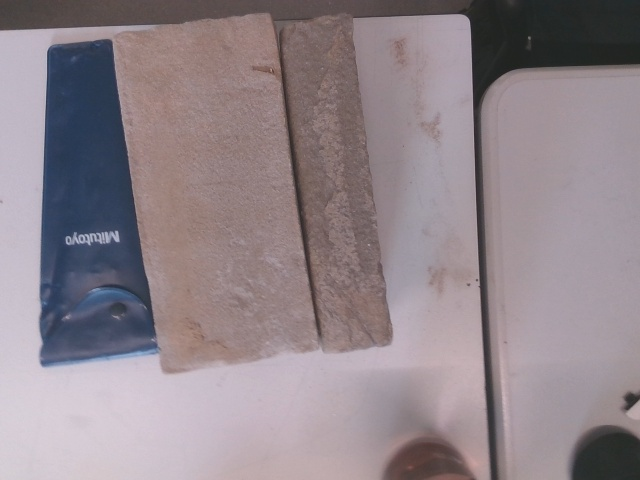brick: (112, 14, 315, 371)
